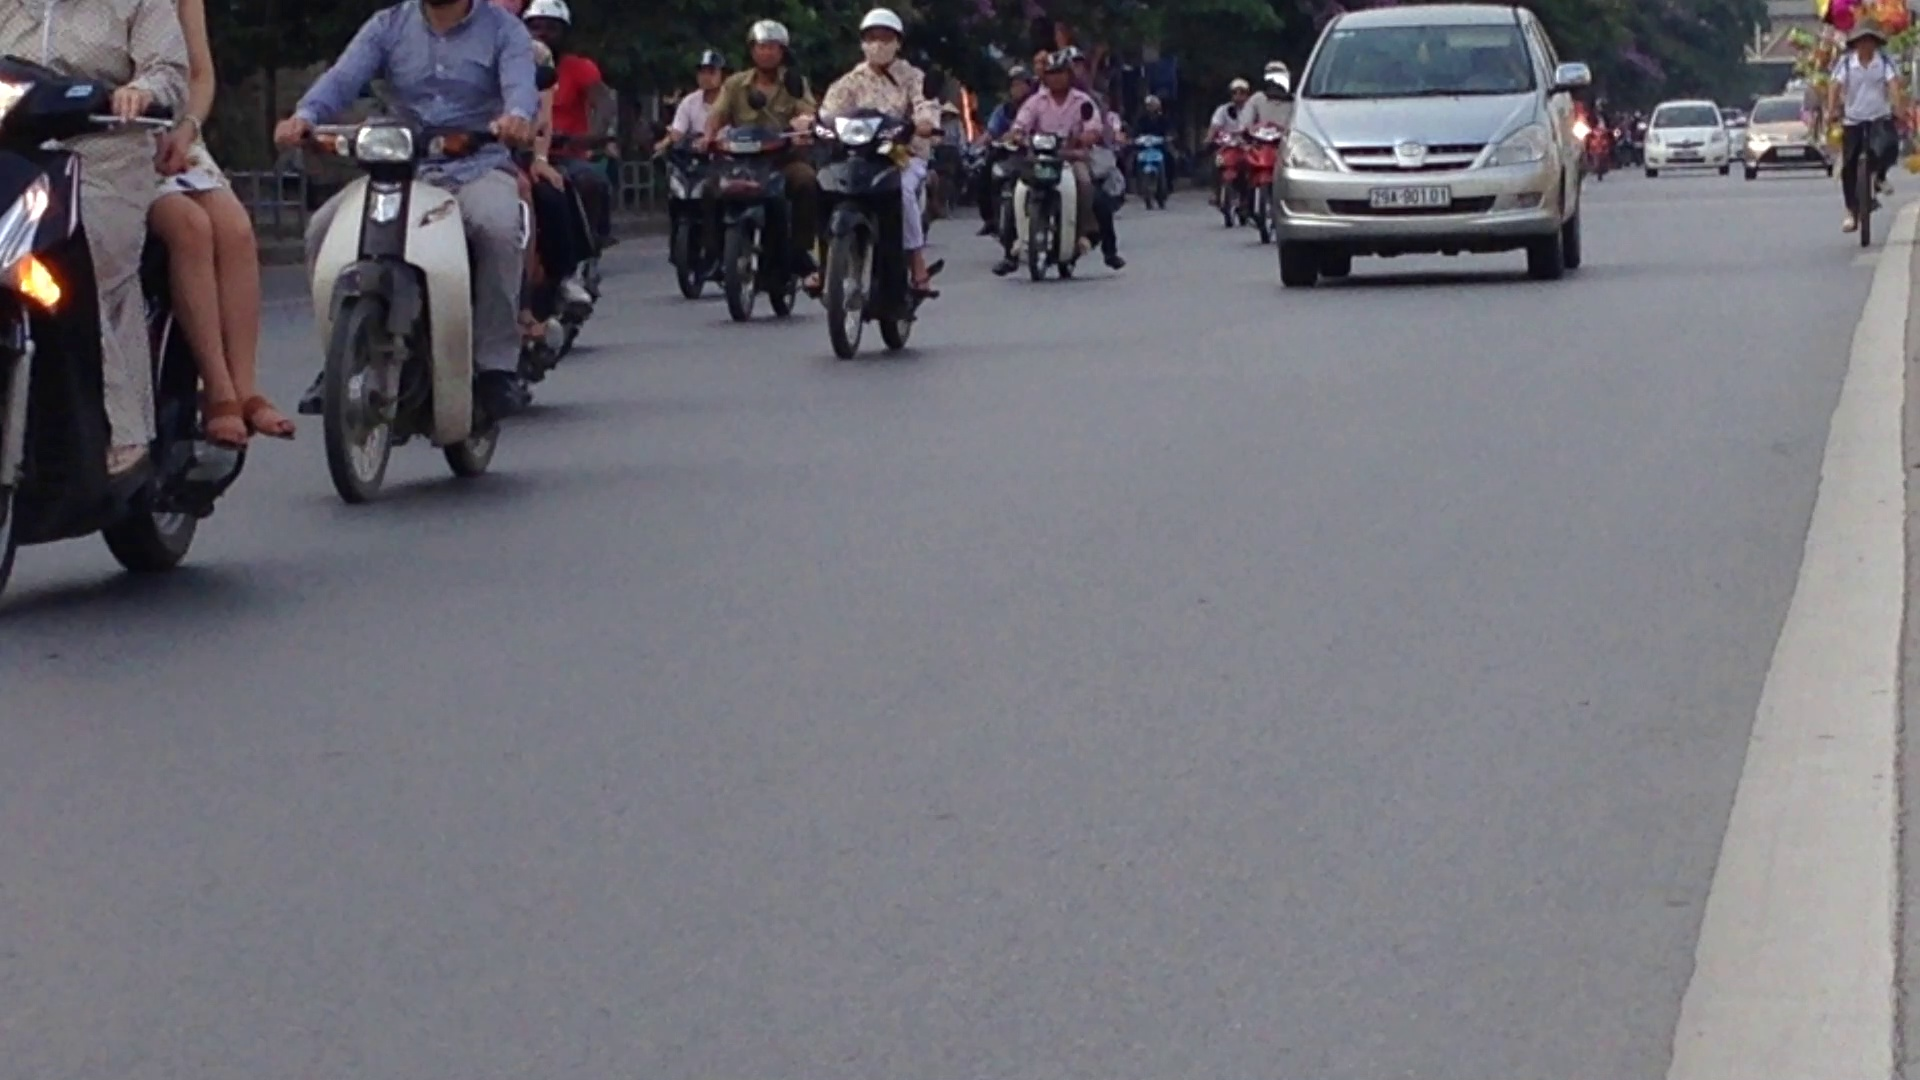vehicle-plate: (1366, 179, 1456, 211)
